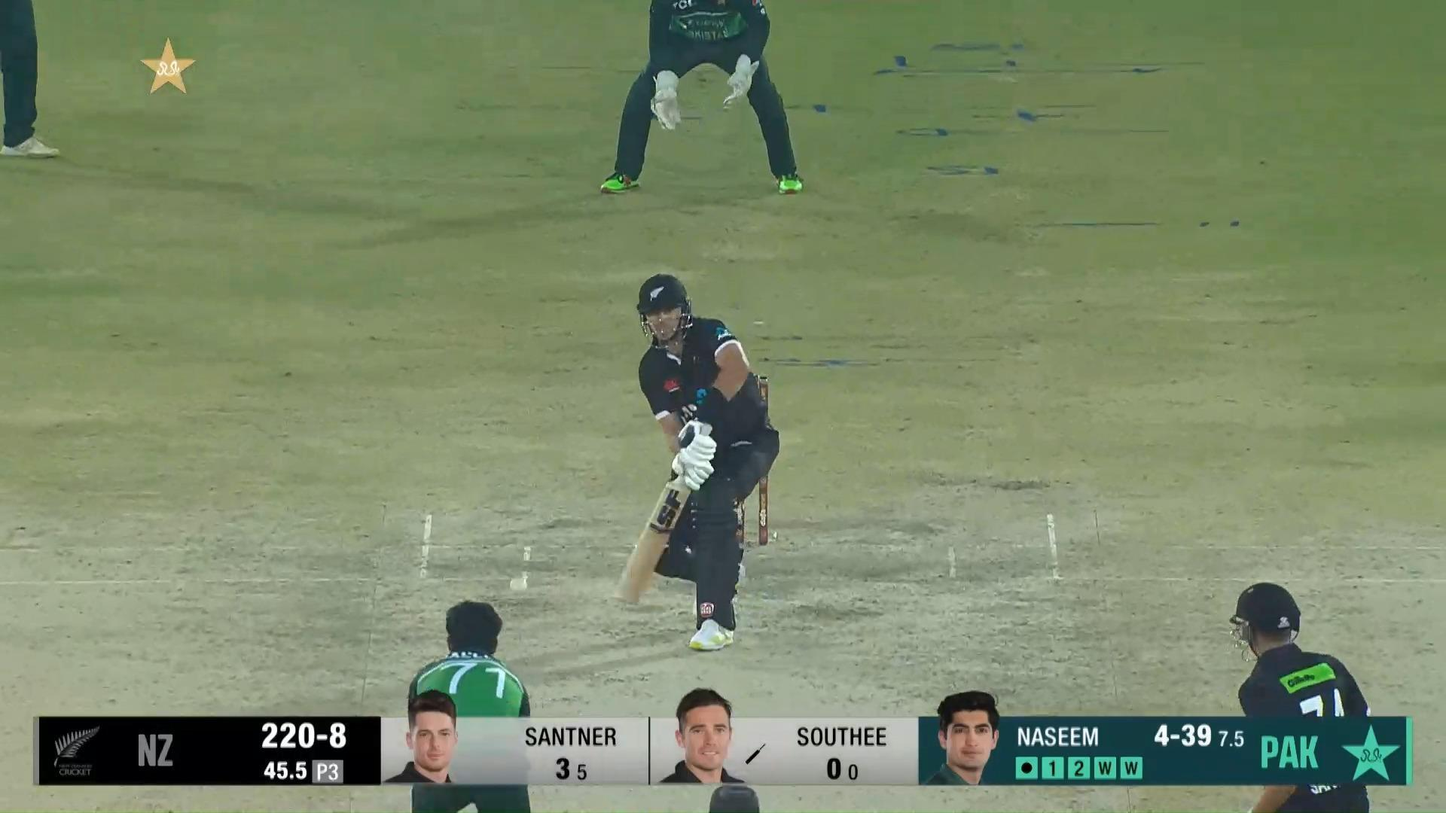BM 1: (611, 268, 781, 653)
BO: (409, 600, 531, 813)
